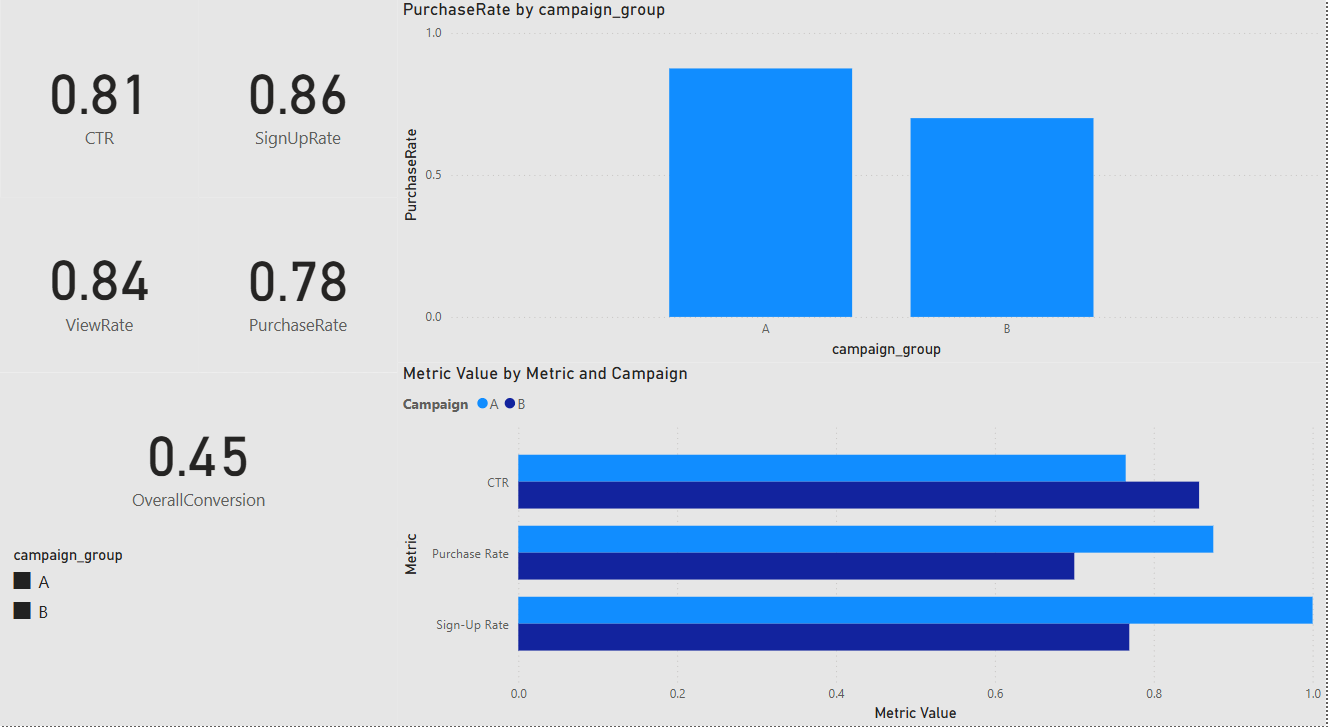

Layout of this report page (visuals, bound fields, positions):
{"tool":"powerbi","page":{"name":"Page 1","canvas":[1280,720],"ordinal":0},"visuals":[{"type":"card","fields":{"Values":["marketing_funnel_data.CTR"]},"box":[0,18.1,191.8,191.8],"z":0},{"type":"card","fields":{"Values":["marketing_funnel_data.ViewRate"]},"box":[0,209.9,192.1,168.8],"z":1},{"type":"card","fields":{"Values":["marketing_funnel_data.SignUpRate"]},"box":[191.8,18.1,191.8,191.8],"z":2},{"type":"card","fields":{"Values":["marketing_funnel_data.PurchaseRate"]},"box":[191.8,209.9,191.8,168.9],"z":3},{"type":"card","fields":{"Values":["marketing_funnel_data.OverallConversion"]},"box":[0,378.8,383.6,168.9],"z":4},{"type":"columnChart","fields":{"Category":["marketing_funnel_data.campaign_group"],"Y":["marketing_funnel_data.PurchaseRate"]},"box":[383.6,18.1,896.4,351.1],"z":5},{"type":"slicer","fields":{"Values":["marketing_funnel_data.campaign_group"]},"box":[0,541.7,383.6,178.6],"z":6},{"type":"clusteredBarChart","fields":{"Category":["CampaignMetricMatrix.Metric"],"Y":["CampaignMetricMatrix.Metric Value"],"Series":["CampaignMetricMatrix.Campaign"]},"box":[383.6,369.2,896.4,351.1],"z":7}]}

Visuals, with their boxes on the page's 1280x720 design canvas (x1, y1, x2, y2). These are canvas units, not pixel positions in the 1335x727 screenshot, which may show the page scaled, cropped or inside an application window:
card - marketing_funnel_data.CTR: bbox(0, 18, 192, 210)
card - marketing_funnel_data.ViewRate: bbox(0, 210, 192, 379)
card - marketing_funnel_data.SignUpRate: bbox(192, 18, 384, 210)
card - marketing_funnel_data.PurchaseRate: bbox(192, 210, 384, 379)
card - marketing_funnel_data.OverallConversion: bbox(0, 379, 384, 548)
columnChart - marketing_funnel_data.campaign_group x marketing_funnel_data.PurchaseRate: bbox(384, 18, 1280, 369)
slicer - marketing_funnel_data.campaign_group: bbox(0, 542, 384, 720)
clusteredBarChart - CampaignMetricMatrix.Metric x CampaignMetricMatrix.Metric Value: bbox(384, 369, 1280, 720)
